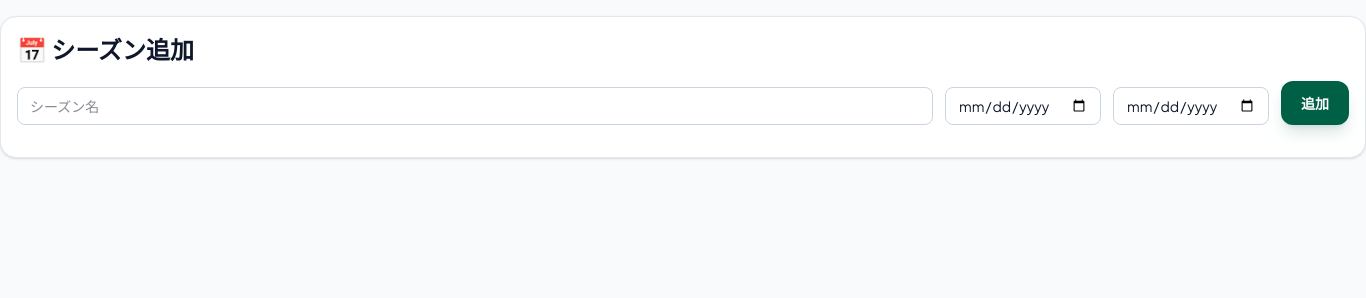
it: SeasonManager › creates and reads seasons
In the field with placeholder "シーズン名": (475, 106) [17,87,933,125], type "Season 1"
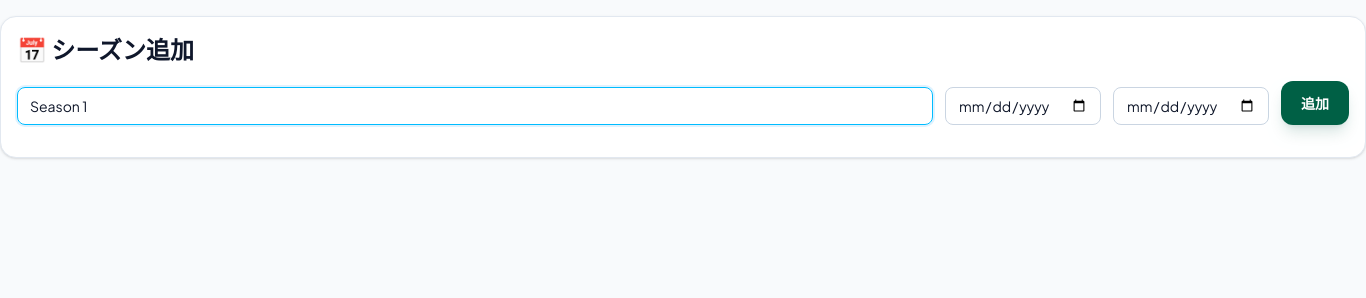
In the 1st date field: (1023, 106) [945,87,1101,125], type "2026-03-01"
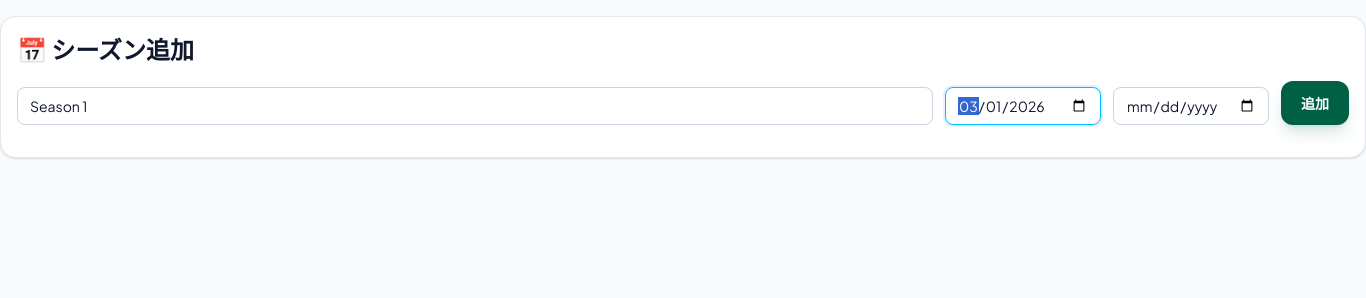
In the 2nd date field: (1191, 106) [1113,87,1269,125], type "2026-03-31"
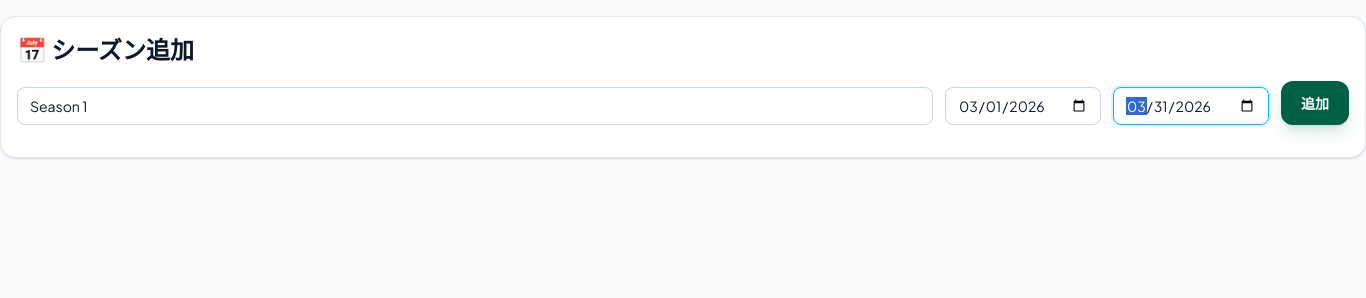
Click the button "追加": (1315, 103) [1281,81,1349,125]
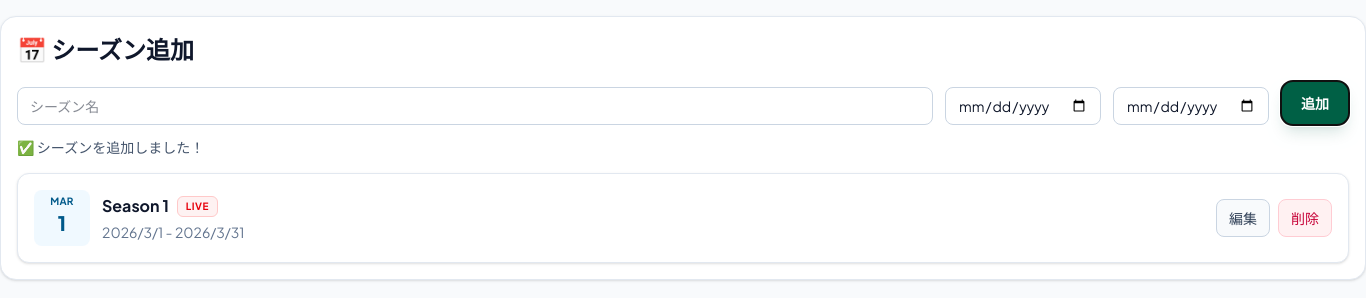
Check: the text "Season 1" is shown, box [102,194,169,218]
